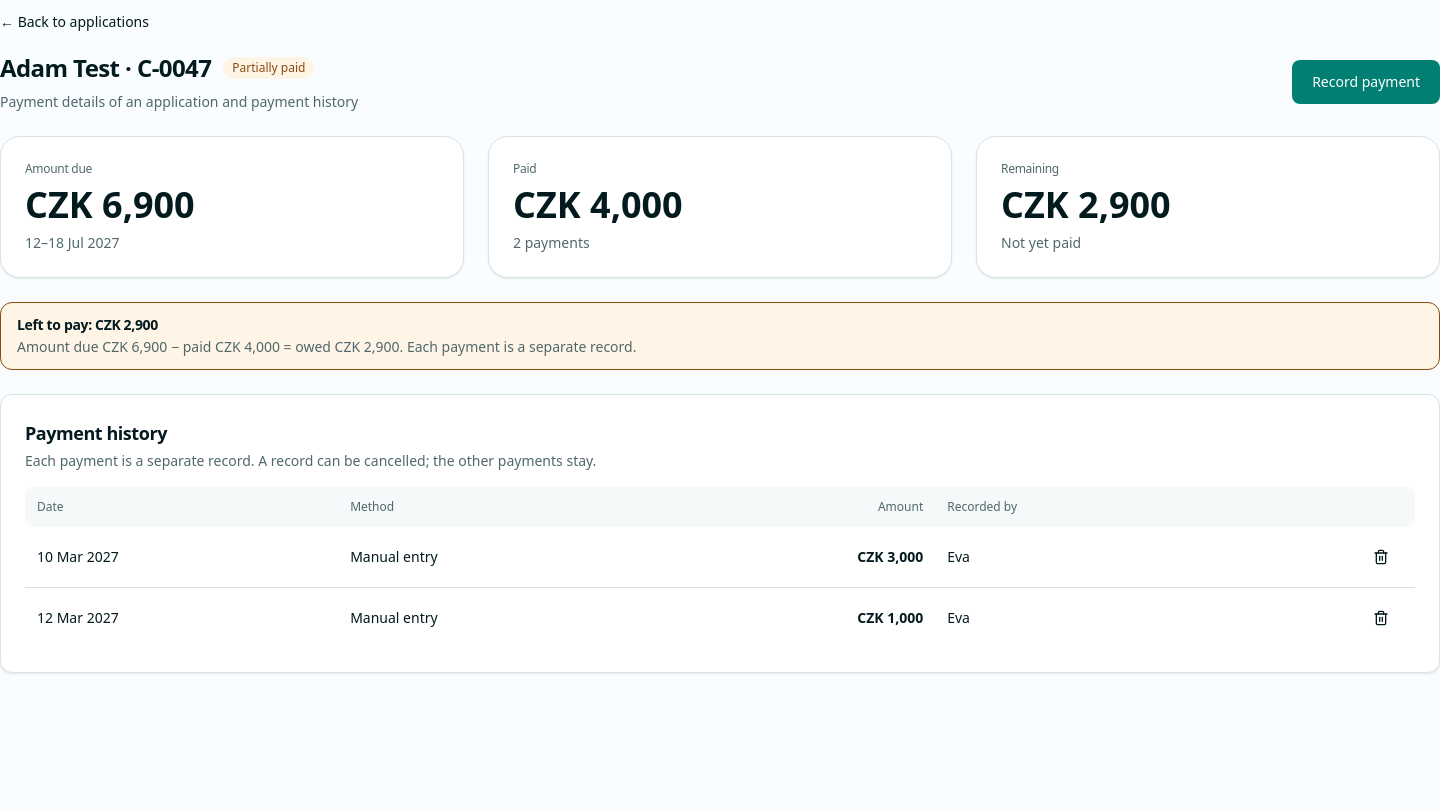
PaymentDetail › confirms cancellation of one receipt and preserves the other receipts
Expected: the table is shown, 25,487 -> 1415,648
Click the button named "Cancel record" in the row of "12 Mar 2027".
click(1381, 618)  # box 1359,596 -> 1403,640
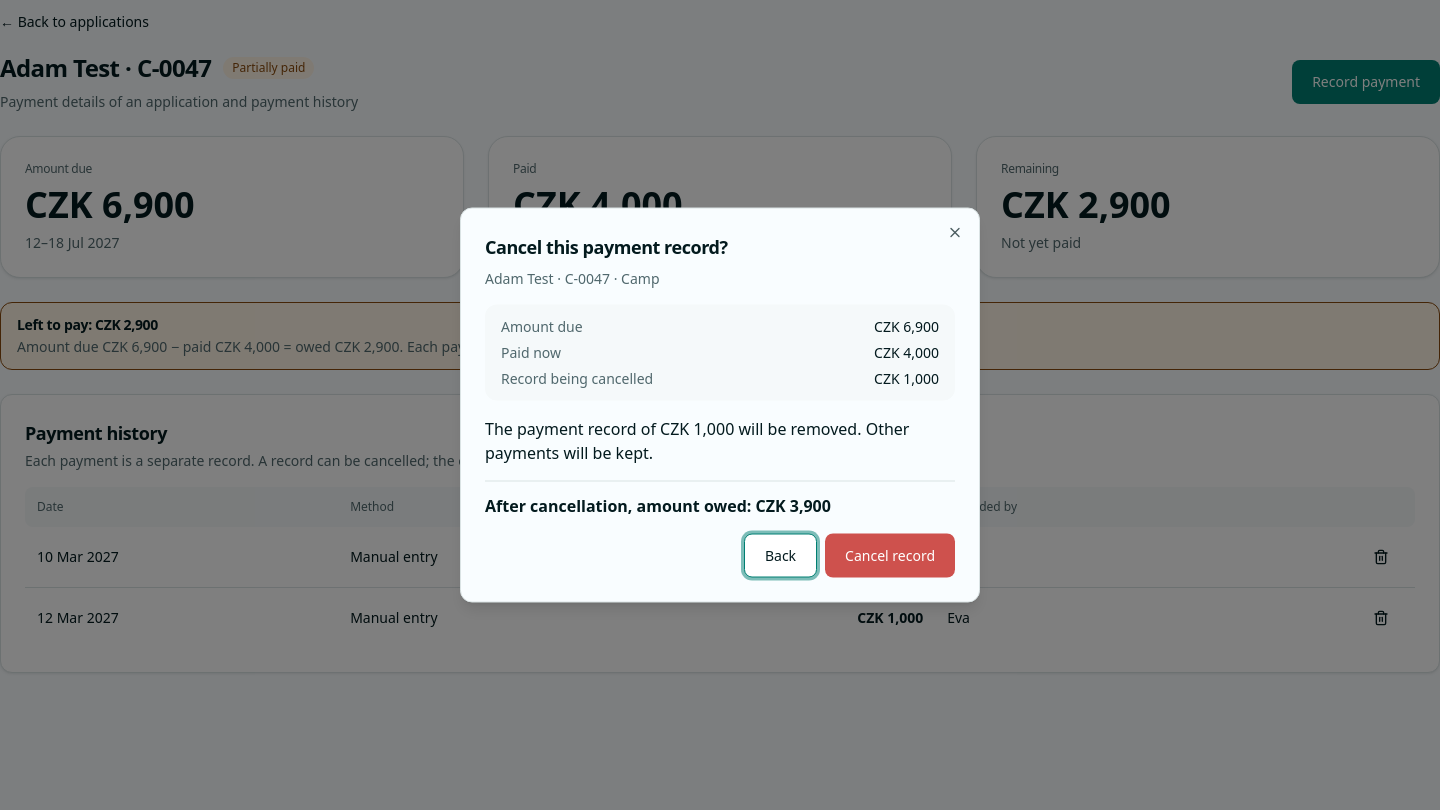
Now the text "After cancellation, amount owed: CZK 3,900" is shown, box 485,480 -> 955,518
Click the button "Back".
click(780, 556)  # box 744,534 -> 817,578
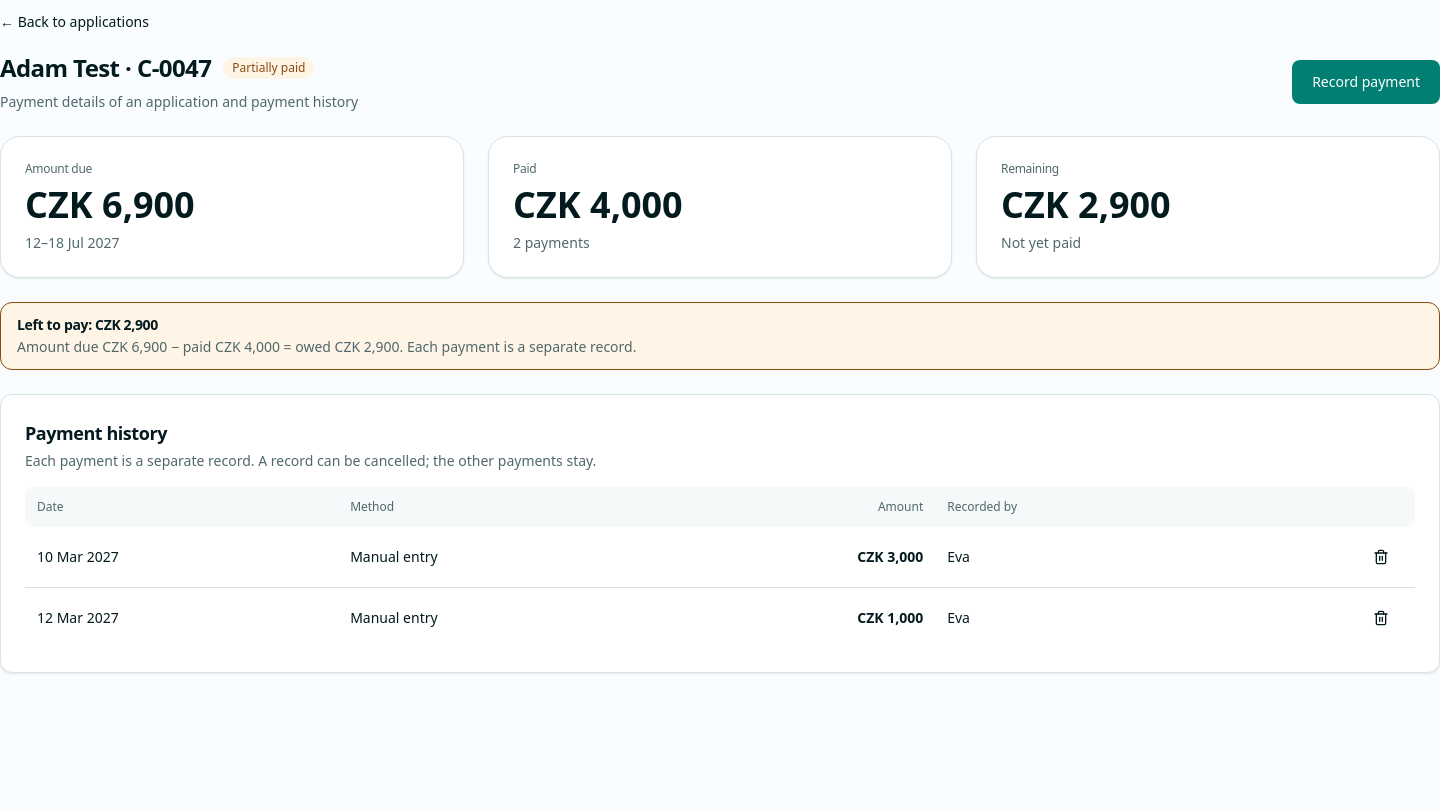
Click the button named "Cancel record" in the row of "12 Mar 2027".
click(1381, 618)  # box 1359,596 -> 1403,640
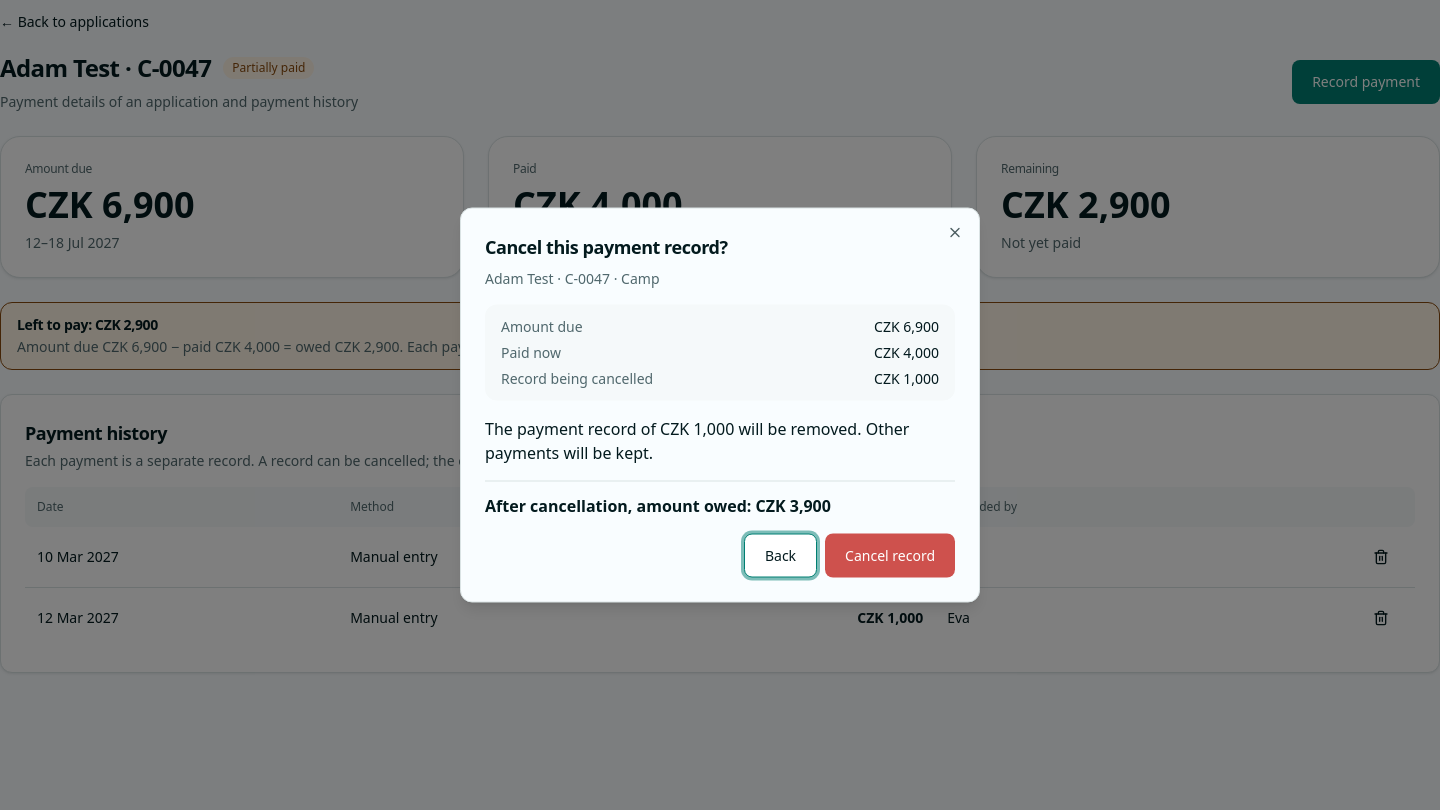
Click the button "Cancel record".
click(890, 556)  # box 825,534 -> 955,578
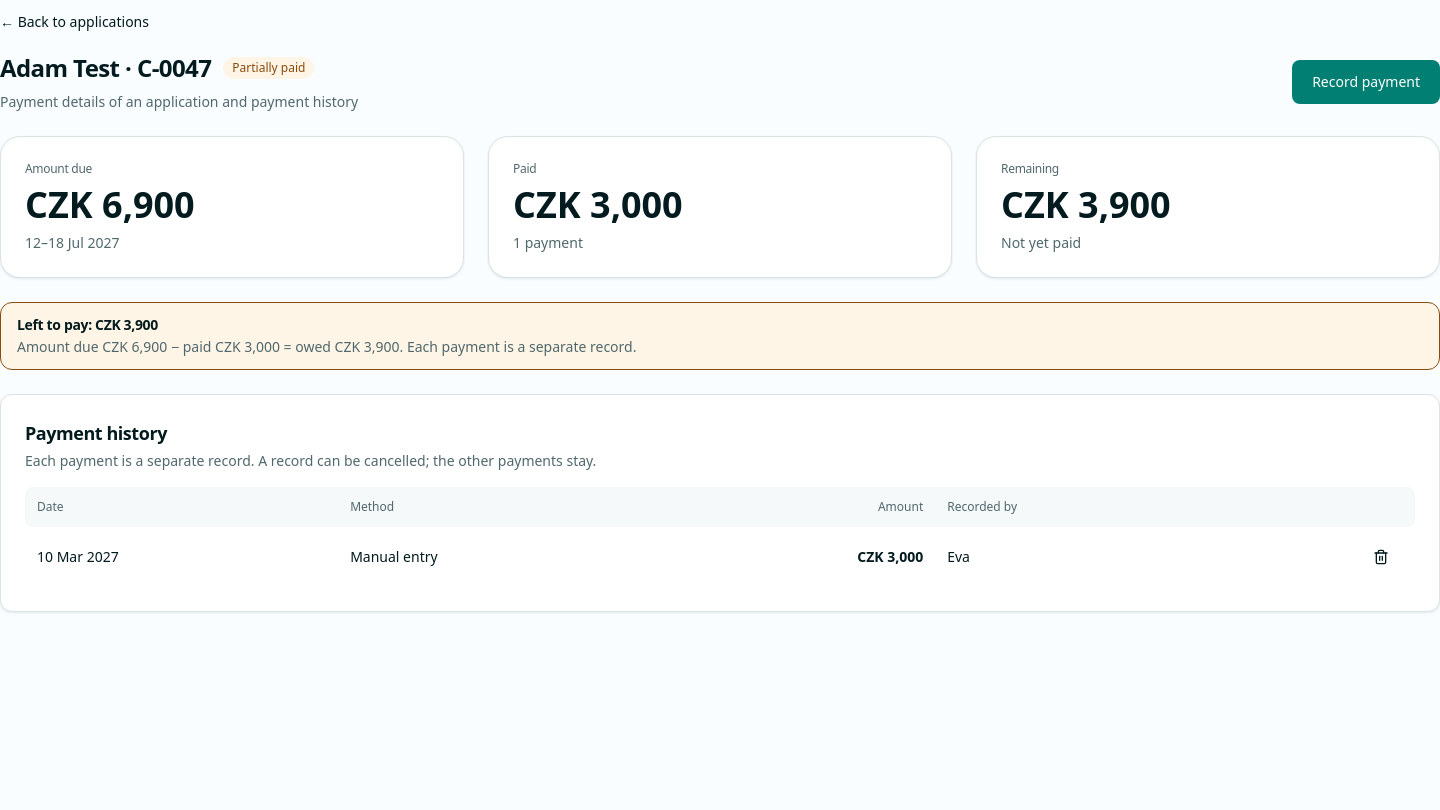
Expected: the number of rows is 2, 25,487 -> 1415,527; 25,527 -> 1415,587
Now the dialog is gone
Now the text "Left to pay: CZK 3,900" is shown, box 17,315 -> 158,334
